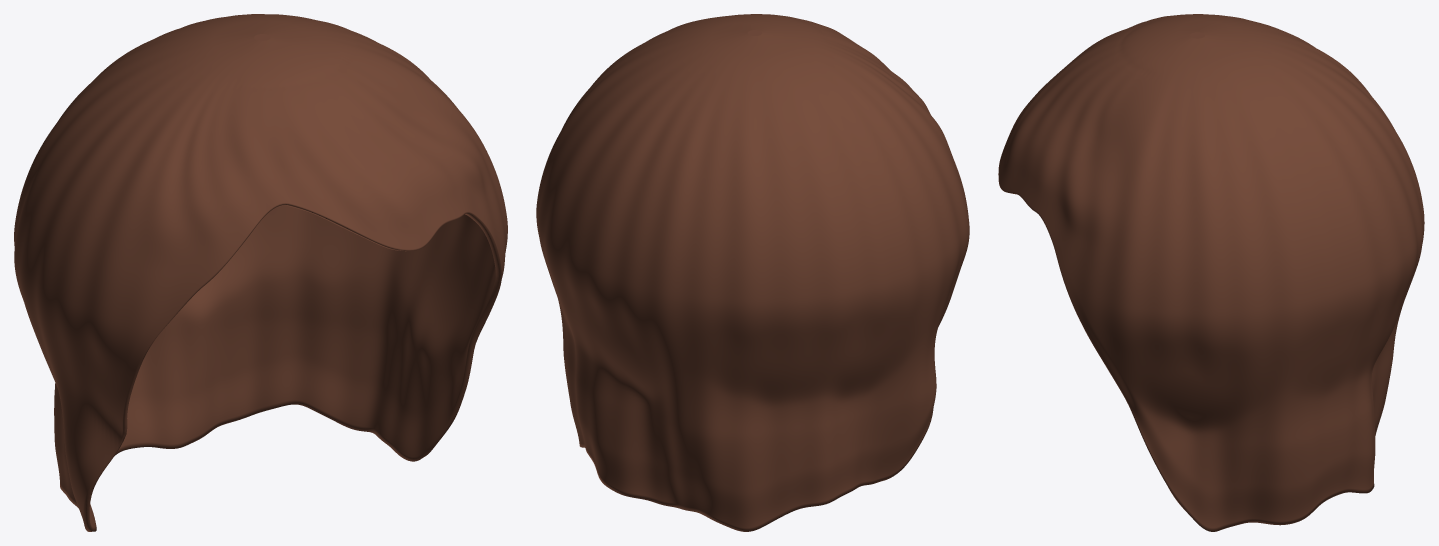
Rendered from brushed.glb.
3 views of the same model, side by side, from view 1: azimuth 30°, elevation 25°; view 2: azimuth 150°, elevation 25°; view 3: azimuth 270°, elevation 25° (orthographic). The views are drawn at different scales.
Visible parts, largest first — view 1: Hair / side-brushed fringe; view 2: Hair / side-brushed fringe; view 3: Hair / side-brushed fringe.
Part boxes in pixels (x1=…): Hair / side-brushed fringe: x1=14, y1=14, x2=507, y2=531; Hair / side-brushed fringe: x1=536, y1=14, x2=969, y2=531; Hair / side-brushed fringe: x1=998, y1=14, x2=1424, y2=531.
Bounding box in the file's own units: 0.8226 × 0.8761 × 0.7728.
